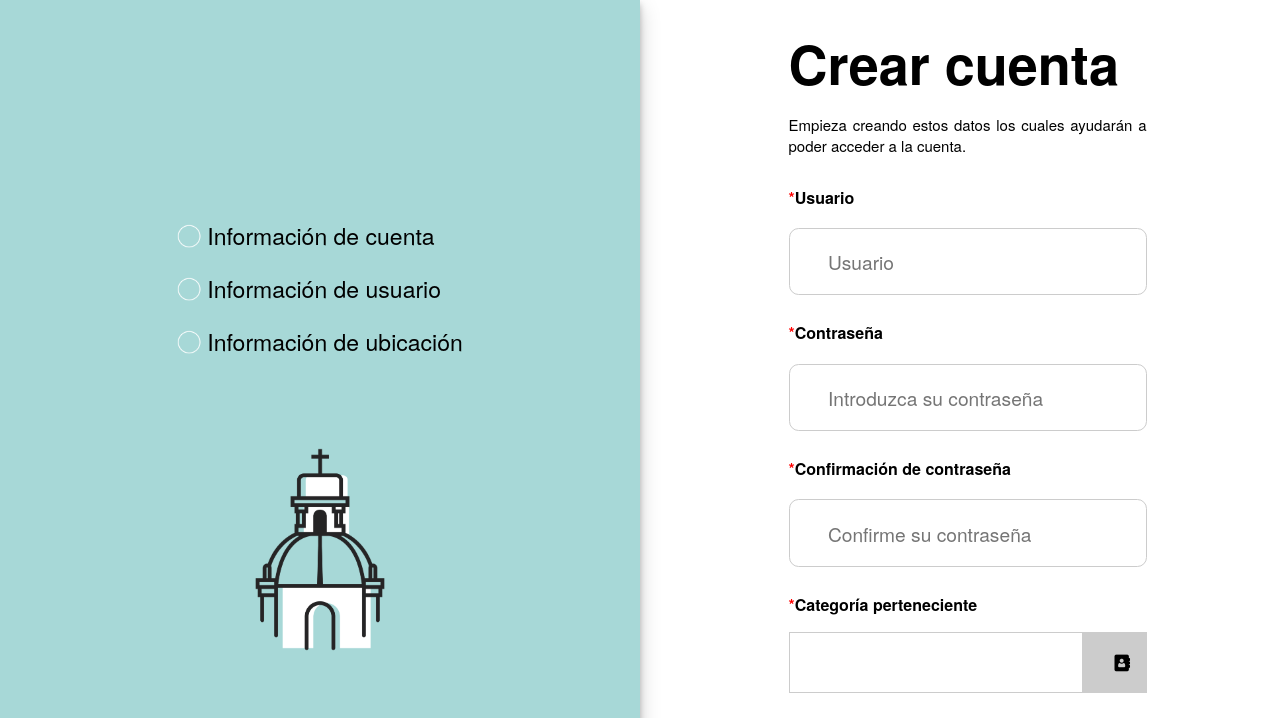
Test: Create tests › Not same passwords
Step 1. Type "ama19020" into the field with placeholder "Usuario" → (968, 262), box [788,228,1146,295]
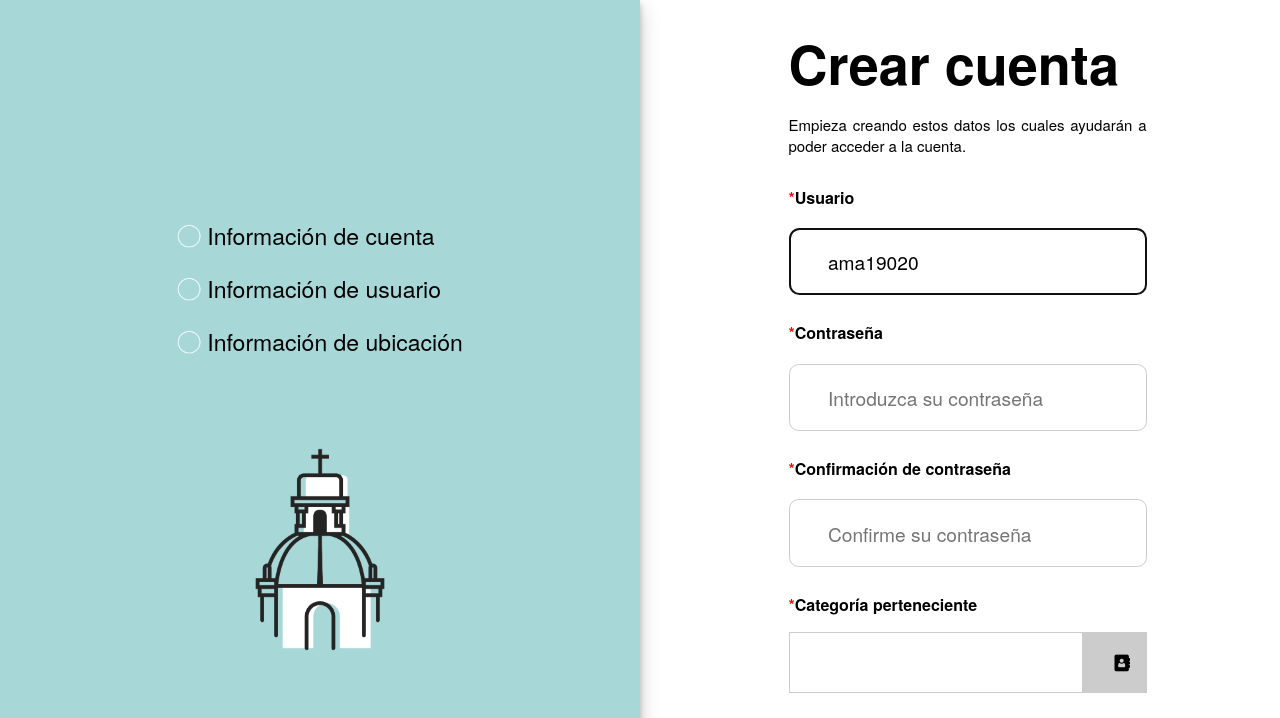
Step 2. Type "12345678" into the password field with placeholder "Introduzca su contraseña" → (968, 397), box [788,364,1146,431]
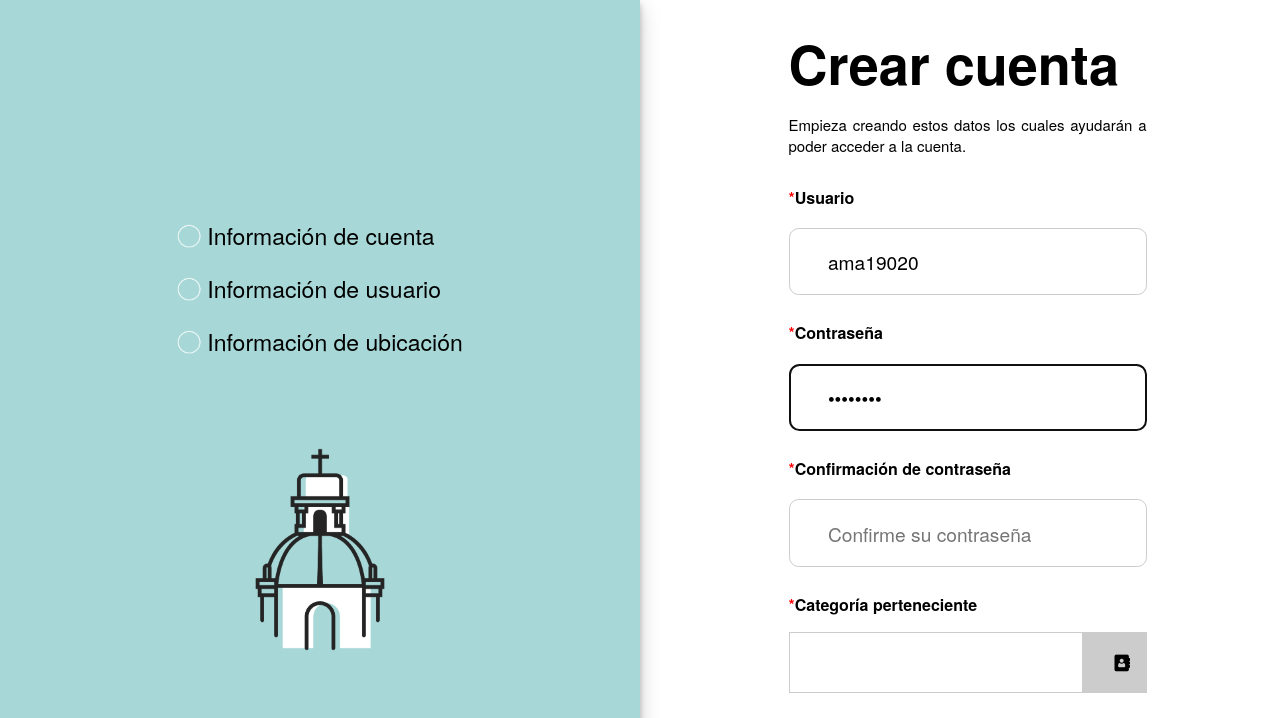
Step 3. Type "87654321" into the password field with placeholder "Confirme su contraseña" → (968, 533), box [788,499,1146,567]
(page scrolled)
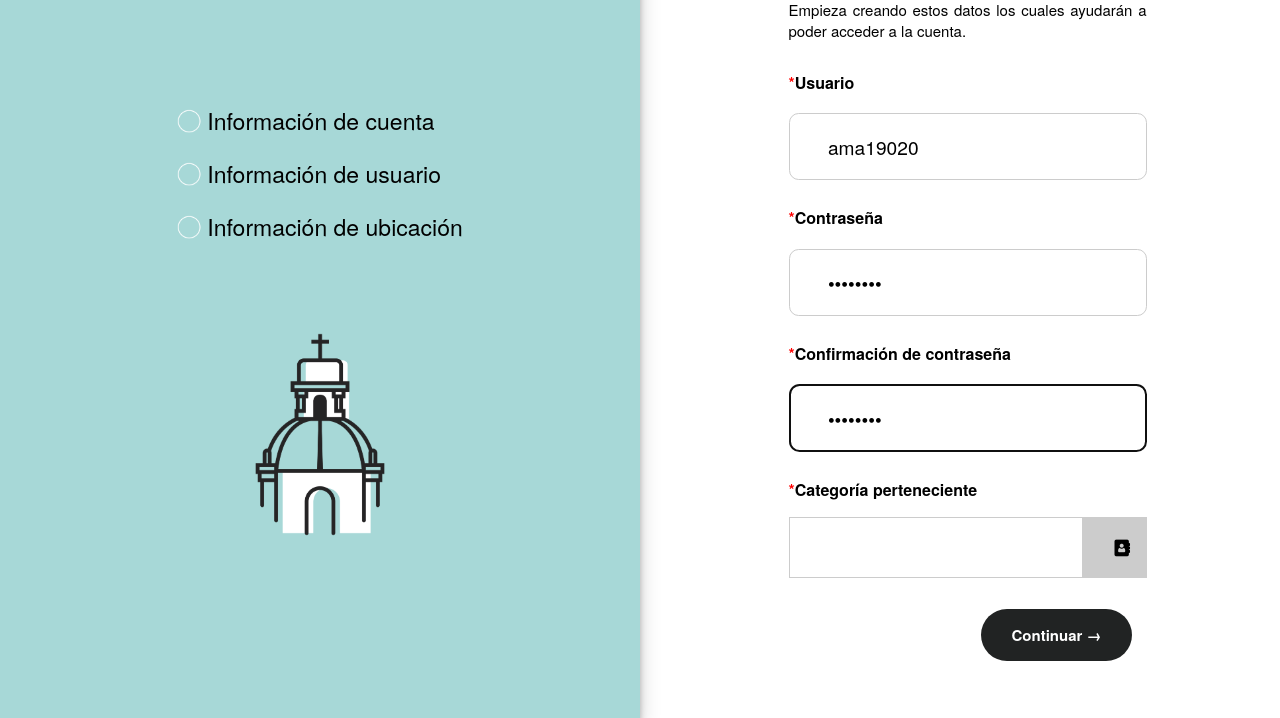
Step 4. Click the button "Continuar →" → (1056, 635), box [982,609,1132,661]
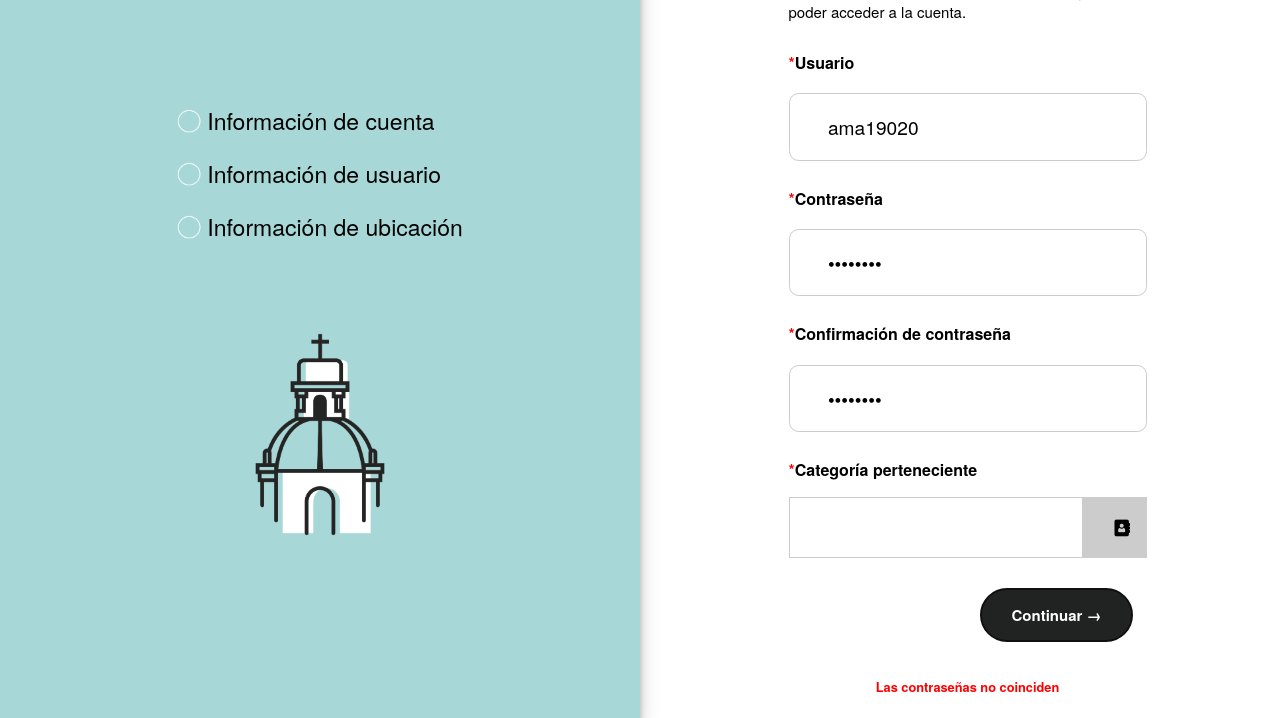
Expected: the heading "Las contraseñas no coinciden" is shown, [876,678,1059,696]
